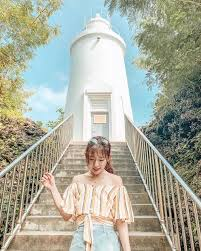people: (65, 137, 132, 251)
